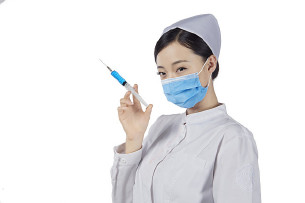face_mask: (155, 45, 208, 109)
